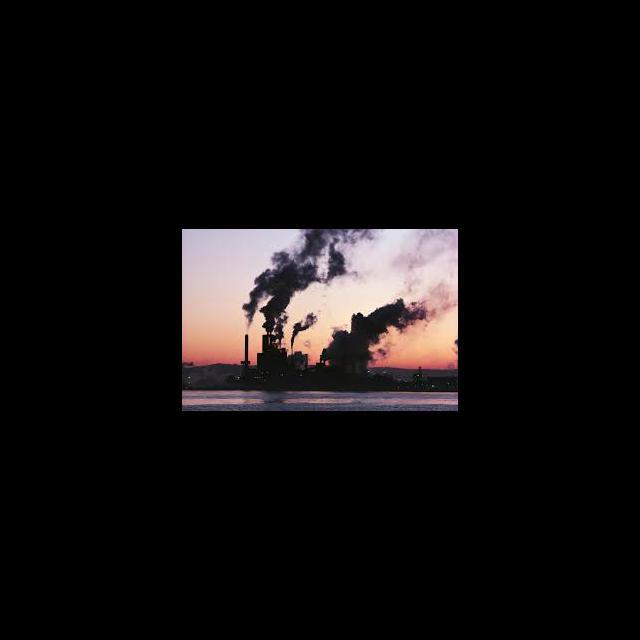Smoke: (244, 229, 344, 313), (320, 304, 431, 356), (289, 316, 312, 348)
